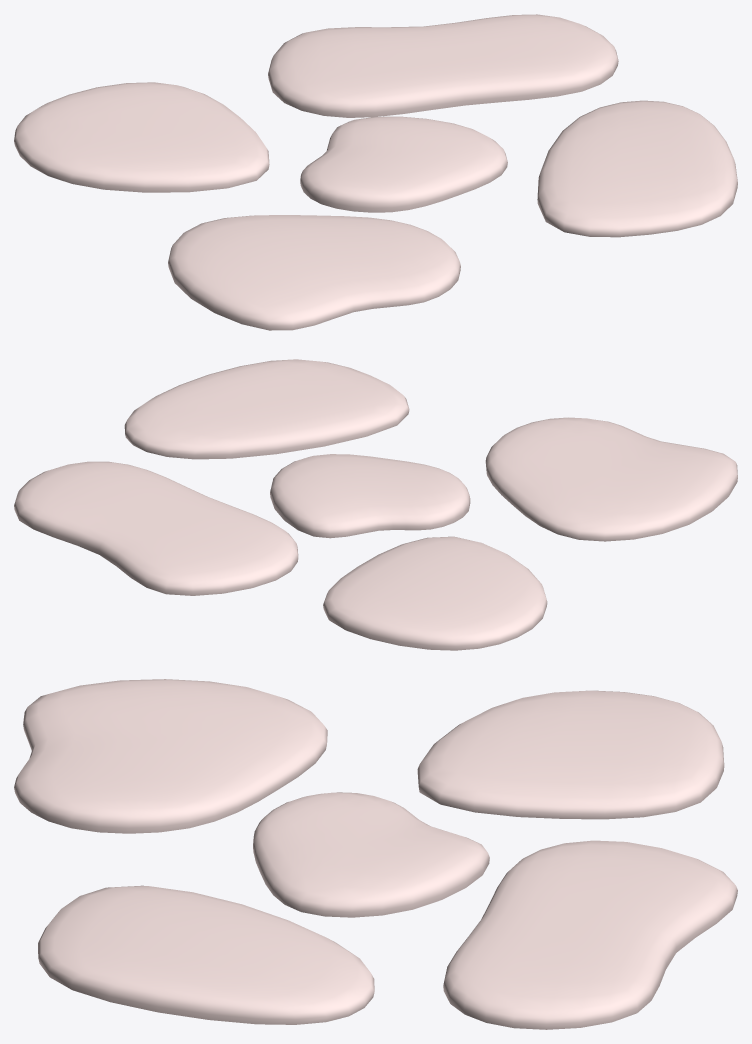
Rendered from Store_5_Path_1.glb.
3 renders of one model, top to bottom at view 1: azimuth 30°, elevation 25°; view 2: azimuth 150°, elevation 25°; view 3: azimuth 270°, elevation 25°, orthographic. The views are drawn at different scales.
Visible parts, largest first — view 1: Store_5_Path_1; view 2: Store_5_Path_1; view 3: Store_5_Path_1.
Boxes of the visible parts, x1,y1,x2,y2 form: Store_5_Path_1: (14, 14, 737, 330); Store_5_Path_1: (14, 359, 737, 650); Store_5_Path_1: (14, 679, 737, 1029).
Bounding box in the file's own units: 2.4 × 0.0749 × 2.17.
Materials: 1 (1 with a texture image).
